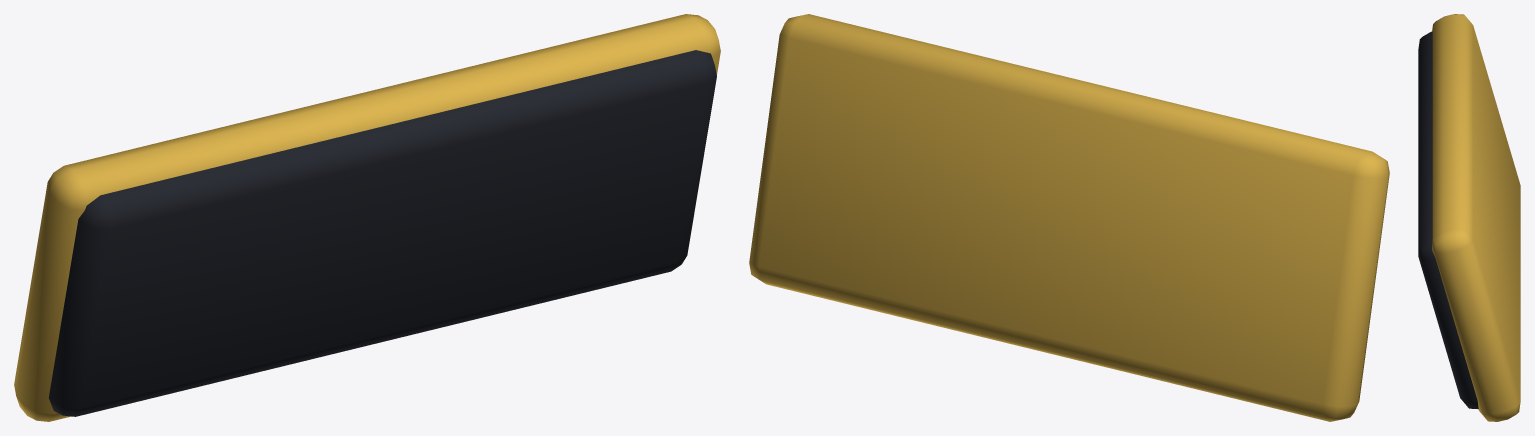
File: Diagram_LabelPlaque.fbx
3 views of the same model, side by side, from view 1: azimuth 30°, elevation 25°; view 2: azimuth 150°, elevation 25°; view 3: azimuth 270°, elevation 25° (orthographic). The views are drawn at different scales.
Visible parts, largest first — view 1: Plaque_Board, Plaque_Rim; view 2: Plaque_Rim; view 3: Plaque_Rim, Plaque_Board.
Part boxes in pixels (bbox=[...]): Plaque_Board: bbox=[49, 50, 716, 416]; Plaque_Rim: bbox=[14, 14, 720, 421]; Plaque_Rim: bbox=[749, 14, 1389, 421]; Plaque_Rim: bbox=[1432, 14, 1520, 421]; Plaque_Board: bbox=[1418, 31, 1478, 409].
Size of the model in its own units: 5 by 1.96 by 0.9488.
